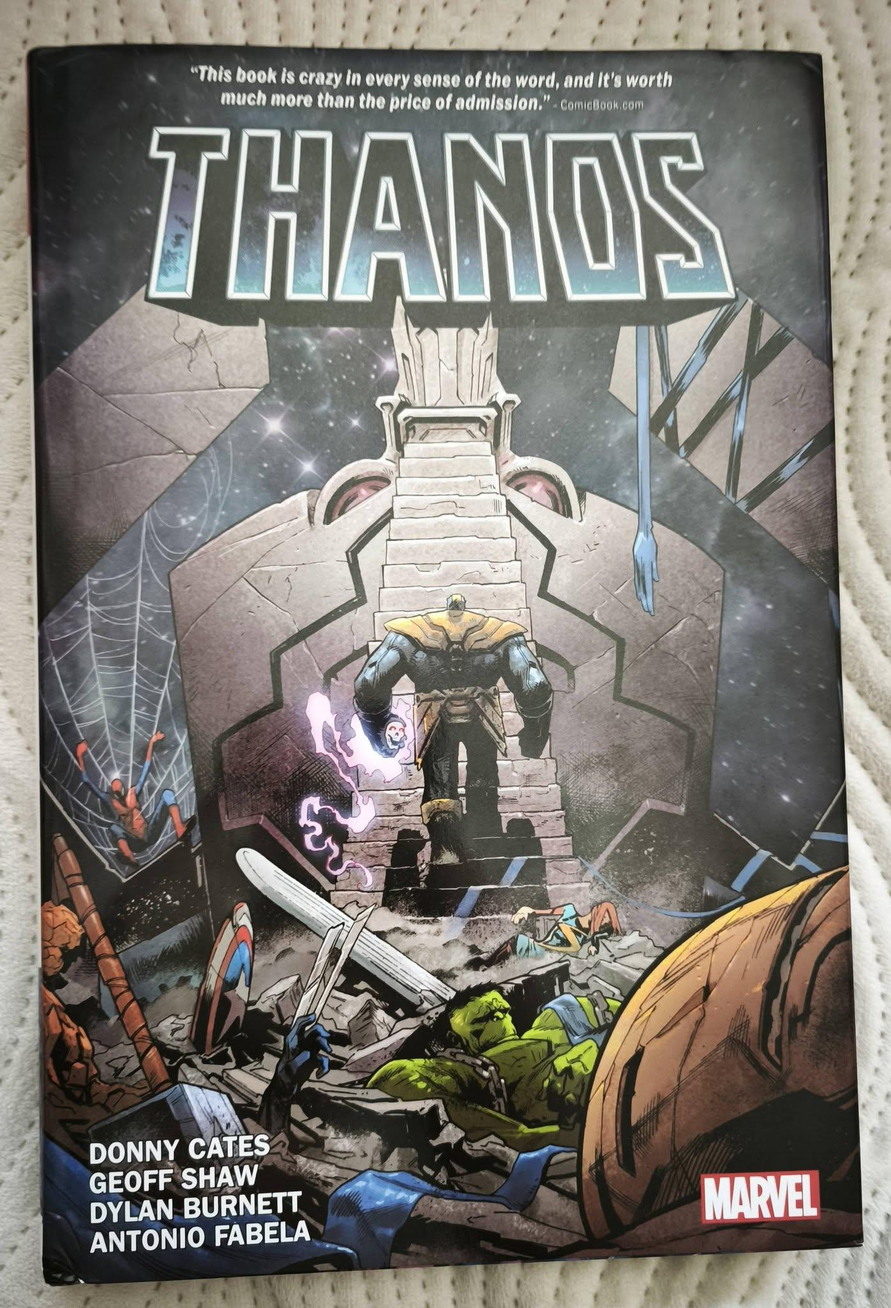comic: (29, 38, 861, 1282)
